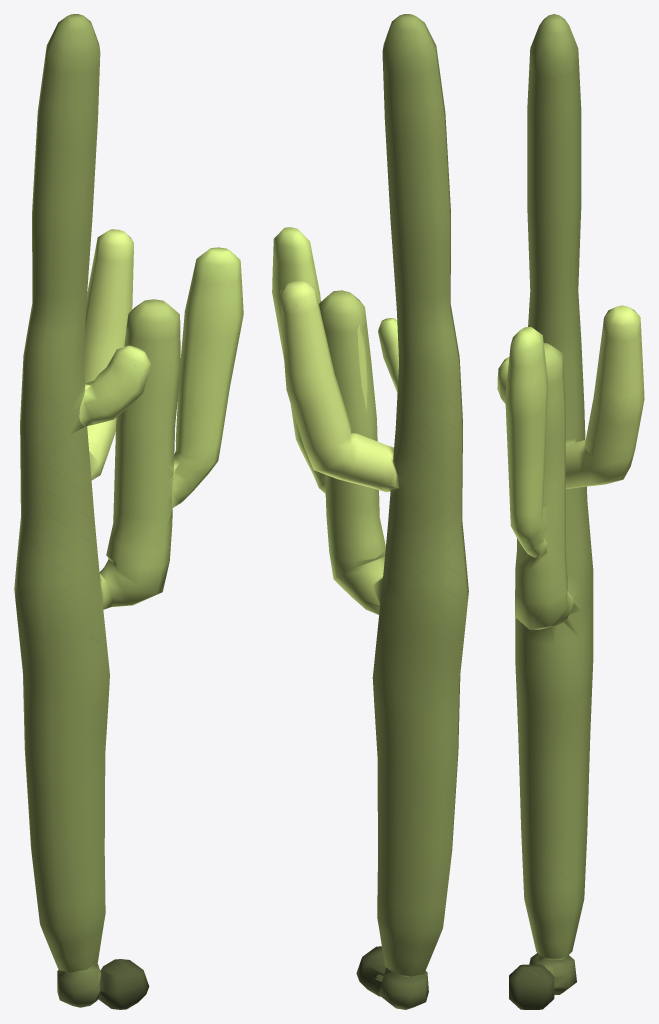
File: desert-plant-1.fbx
The picture shows the model from 3 angles, left to right: view 1: azimuth 30°, elevation 25°; view 2: azimuth 150°, elevation 25°; view 3: azimuth 270°, elevation 25°; orthographic projection.
Visible parts, largest first — view 1: unamed; view 2: unamed; view 3: unamed.
Part boxes in pixels (x1,y1,x2,y2): unamed: (14,14,243,1009); unamed: (272,14,468,1009); unamed: (497,14,644,1009).
Bounding box in the file's own units: 0.2086 × 0.9502 × 0.1299.
Materials: 1 (1 with a texture image).
